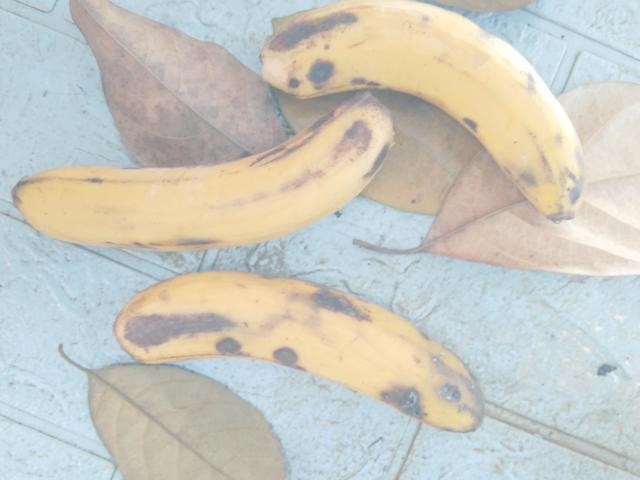overripe: (88, 263, 501, 445)
ripe: (248, 0, 587, 213), (5, 106, 404, 256)
